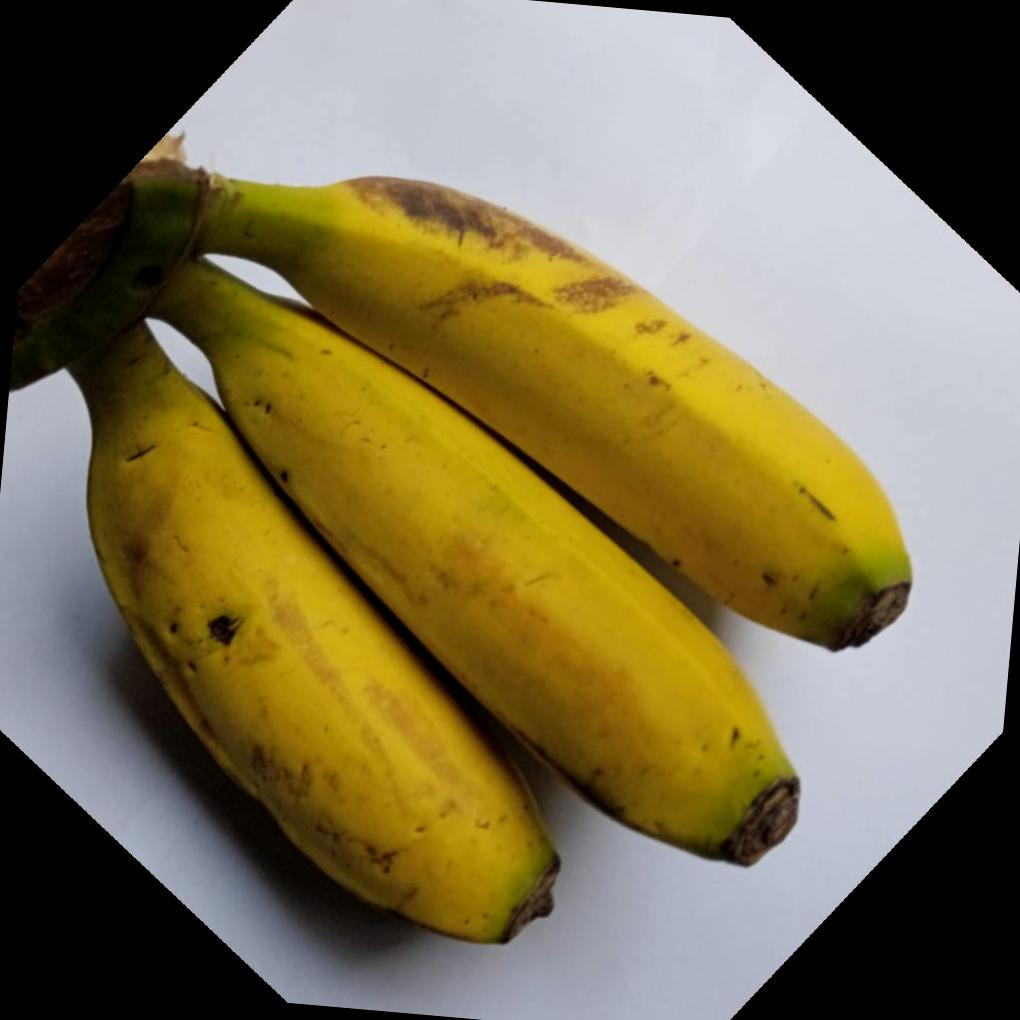Banana Ripe: (14, 107, 944, 1020), (108, 220, 896, 940), (254, 112, 983, 702), (21, 372, 596, 1020)
